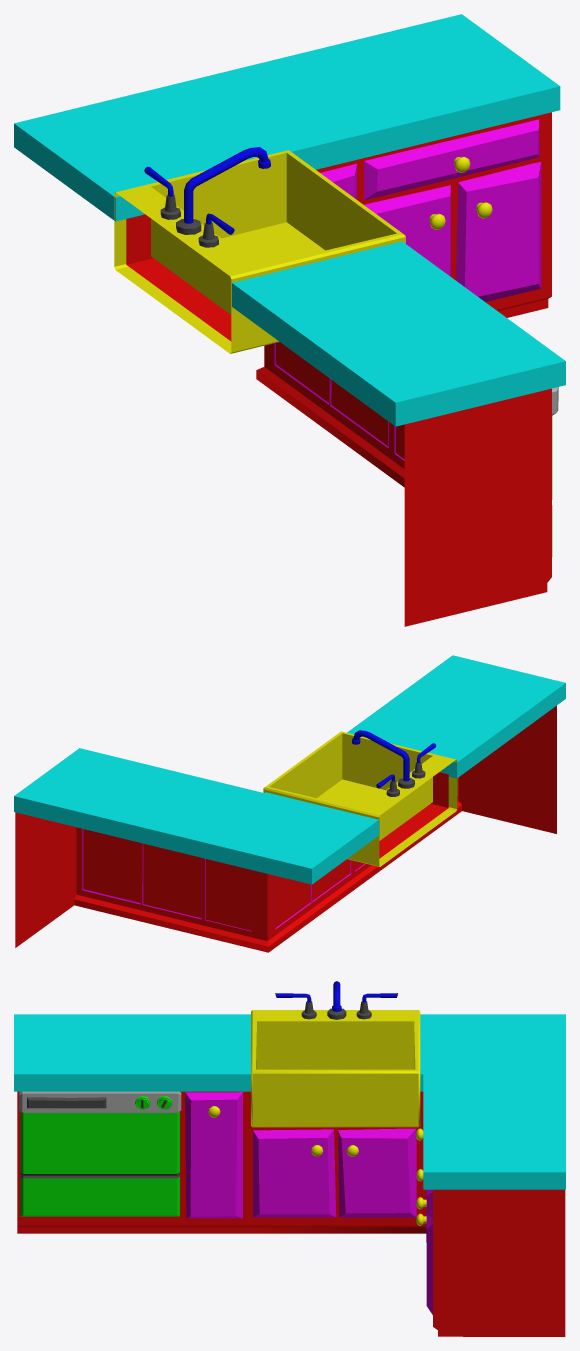
Rendered from Kitchen_Countertop_1.fbx.
3 renders of one model, top to bottom at view 1: azimuth 30°, elevation 25°; view 2: azimuth 150°, elevation 25°; view 3: azimuth 270°, elevation 25°, orthographic. The views are drawn at different scales.
Visible parts, largest first — view 1: Kitchen_Countertop_1; view 2: Kitchen_Countertop_1; view 3: Kitchen_Countertop_1.
Boxes of the visible parts, x1=… form: Kitchen_Countertop_1: x1=14, y1=14, x2=565, y2=626; Kitchen_Countertop_1: x1=14, y1=655, x2=565, y2=952; Kitchen_Countertop_1: x1=14, y1=981, x2=565, y2=1336.
Bounding box in the file's own units: 252 × 161 × 372.
